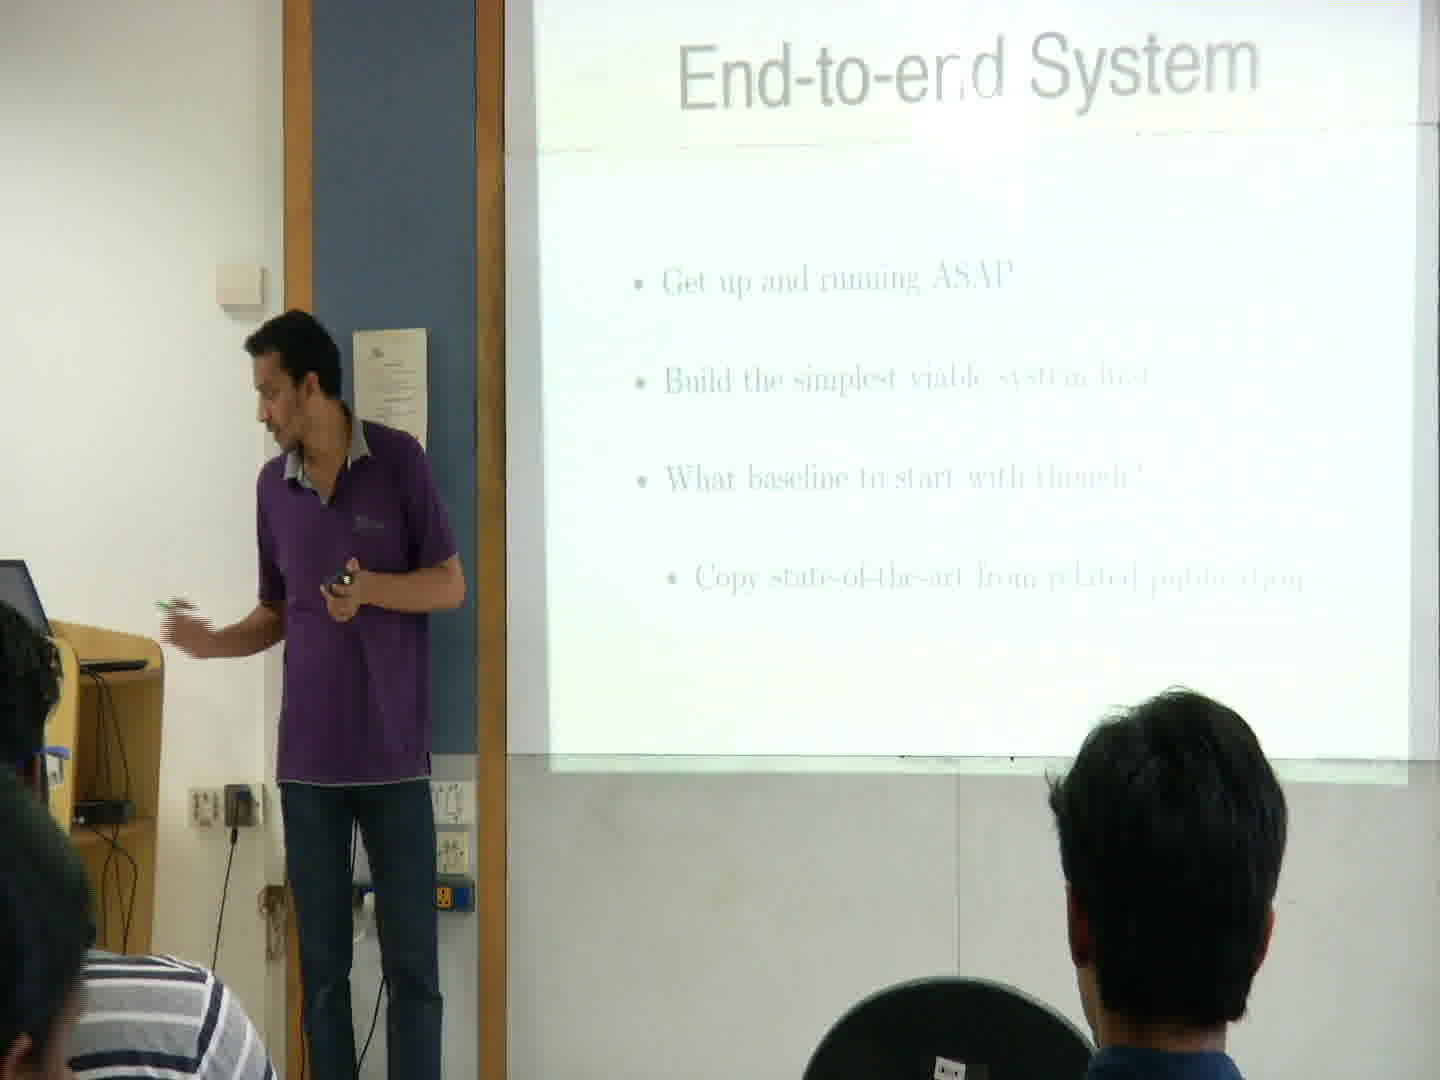slide: (537, 5, 1413, 782)
